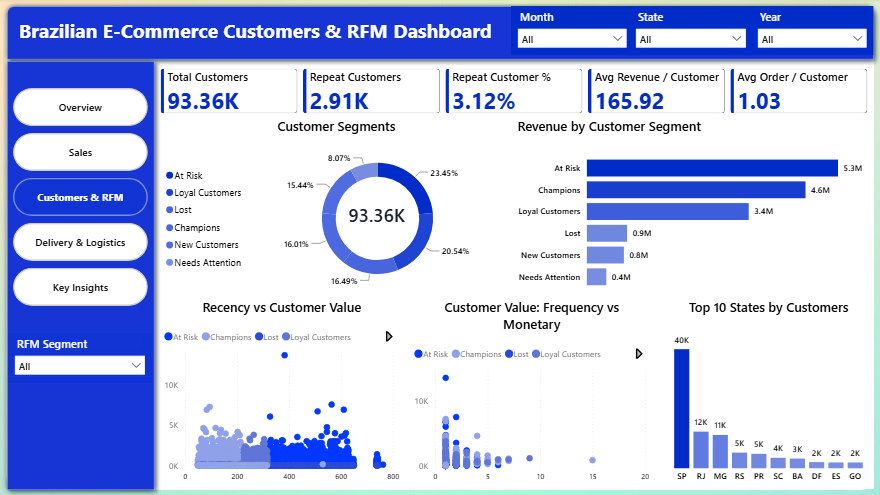

The page's visual inventory and layout, read from the dashboard file:
{"tool":"powerbi","page":{"name":"Customers & RFM","canvas":[1280,720],"ordinal":2},"visuals":[{"type":"shape","box":[12.5,10.9,1255.1,700],"z":0},{"type":"shape","box":[6.2,3.1,1270.6,95.1],"z":1000},{"type":"shape","box":[6.2,82.3,230.7,637.7],"z":2000},{"type":"pageNavigator","box":[23.1,130.1,195.2,316.6],"z":3000},{"type":"slicer","fields":{"Values":["DimDate.MonthName"]},"box":[742.7,11.9,177.1,71.4],"z":4000},{"type":"slicer","fields":{"Values":["MasterTable.customer_state"]},"box":[913.9,11.9,178.6,71.4],"z":5000},{"type":"slicer","fields":{"Values":["DimDate.Year"]},"box":[1089.5,11.9,177.1,71.4],"z":6000},{"type":"donutChart","title":"Customer Segments","fields":{"Category":["CustomerRFMsegment.customer_segment"],"Y":["CountNonNull(CustomerRFMsegment.customer_unique_id)"]},"box":[238.2,172.4,504.1,257.2],"z":7000},{"type":"clusteredBarChart","title":"Revenue by Customer Segment","fields":{"Y":["_Measure.Total Revenue"],"Category":["CustomerRFMsegment.customer_segment"]},"box":[748.1,172.4,518.7,261.6],"z":8000},{"type":"cardVisual","fields":{"Data":["_Measure.Total Customers","_Measure.Repeat Customers","_Measure.Repeat Customer %","_Measure.Revenue per Customer","_Measure.Avg Orders per Customer"]},"box":[230.9,96.4,1034.5,76],"z":9000},{"type":"scatterChart","title":"Customer Value: Frequency vs Monetary","fields":{"Y":["Sum(CustomerRFMsegment.monetary)"],"X":["Sum(CustomerRFMsegment.frequency)"],"Series":["CustomerRFMsegment.customer_segment"],"Category":["CustomerRFMsegment.customer_unique_id"]},"box":[599.1,434,349.2,276.2],"z":10000},{"type":"columnChart","title":"Top 10 States by Customers","fields":{"Category":["MasterTable.customer_state"],"Y":["Count(MasterTable.customer_unique_id)"]},"box":[962.9,434,305.4,276.2],"z":11000},{"type":"cardVisual","fields":{"Data":["_Measure.Total Customers"]},"box":[463.2,264.5,173.9,93.5],"z":11500},{"type":"scatterChart","title":"Recency vs Customer Value","fields":{"X":["Sum(CustomerRFMsegment.recency_days)"],"Y":["Sum(CustomerRFMsegment.monetary)"],"Category":["CustomerRFMsegment.customer_unique_id"],"Series":["CustomerRFMsegment.customer_segment"]},"box":[236.7,434,349.2,276.2],"z":12000},{"type":"slicer","fields":{"Values":["CustomerRFMsegment.customer_segment"]},"box":[15.9,484.3,208.2,72.3],"z":15000}]}

Visuals, with their boxes in screenshot pixels (x1, y1, x2, y2), scaled from the page's 1280x720 canvas onto the 880x495 screenshot:
shape: <bbox>9, 7, 871, 489</bbox>
shape: <bbox>4, 2, 878, 68</bbox>
shape: <bbox>4, 57, 163, 494</bbox>
pageNavigator: <bbox>16, 89, 150, 307</bbox>
slicer - DimDate.MonthName: <bbox>511, 8, 632, 57</bbox>
slicer - MasterTable.customer_state: <bbox>628, 8, 751, 57</bbox>
slicer - DimDate.Year: <bbox>749, 8, 871, 57</bbox>
"Customer Segments" donutChart: <bbox>164, 119, 510, 295</bbox>
"Revenue by Customer Segment" clusteredBarChart: <bbox>514, 119, 871, 298</bbox>
cardVisual - _Measure.Total Customers x _Measure.Repeat Customers: <bbox>159, 66, 870, 119</bbox>
"Customer Value: Frequency vs Monetary" scatterChart: <bbox>412, 298, 652, 488</bbox>
"Top 10 States by Customers" columnChart: <bbox>662, 298, 872, 488</bbox>
cardVisual - _Measure.Total Customers: <bbox>318, 182, 438, 246</bbox>
"Recency vs Customer Value" scatterChart: <bbox>163, 298, 403, 488</bbox>
slicer - CustomerRFMsegment.customer_segment: <bbox>11, 333, 154, 383</bbox>
